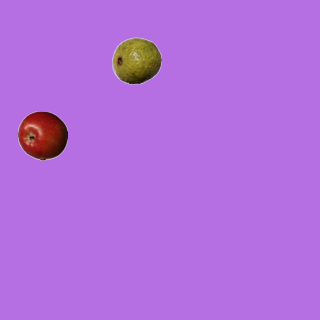Apple Braeburn: (17, 110, 67, 160)
Guava: (111, 35, 161, 85)
